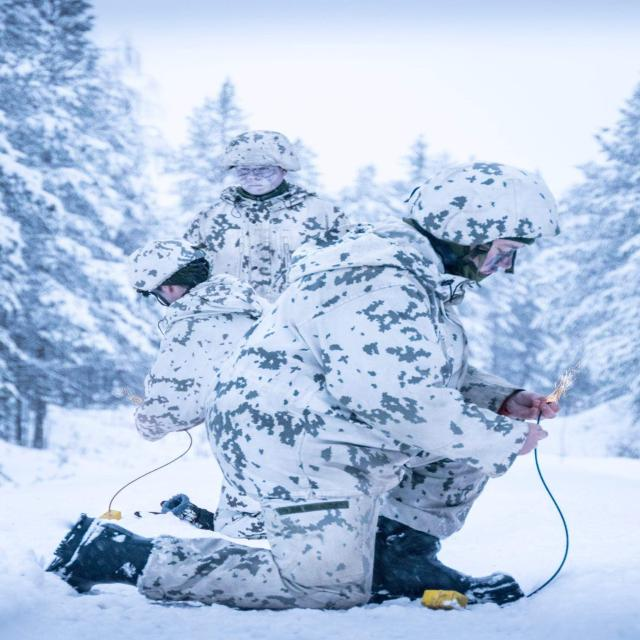Human: (56, 160, 560, 622), (126, 238, 278, 441), (180, 129, 348, 234)
